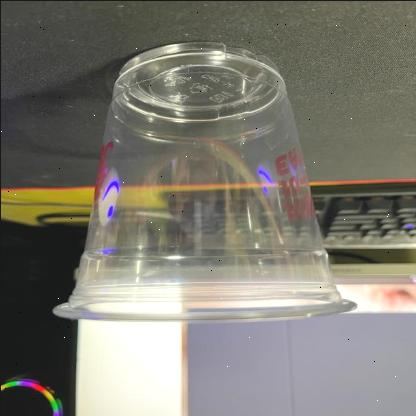Others: (51, 40, 359, 326)
